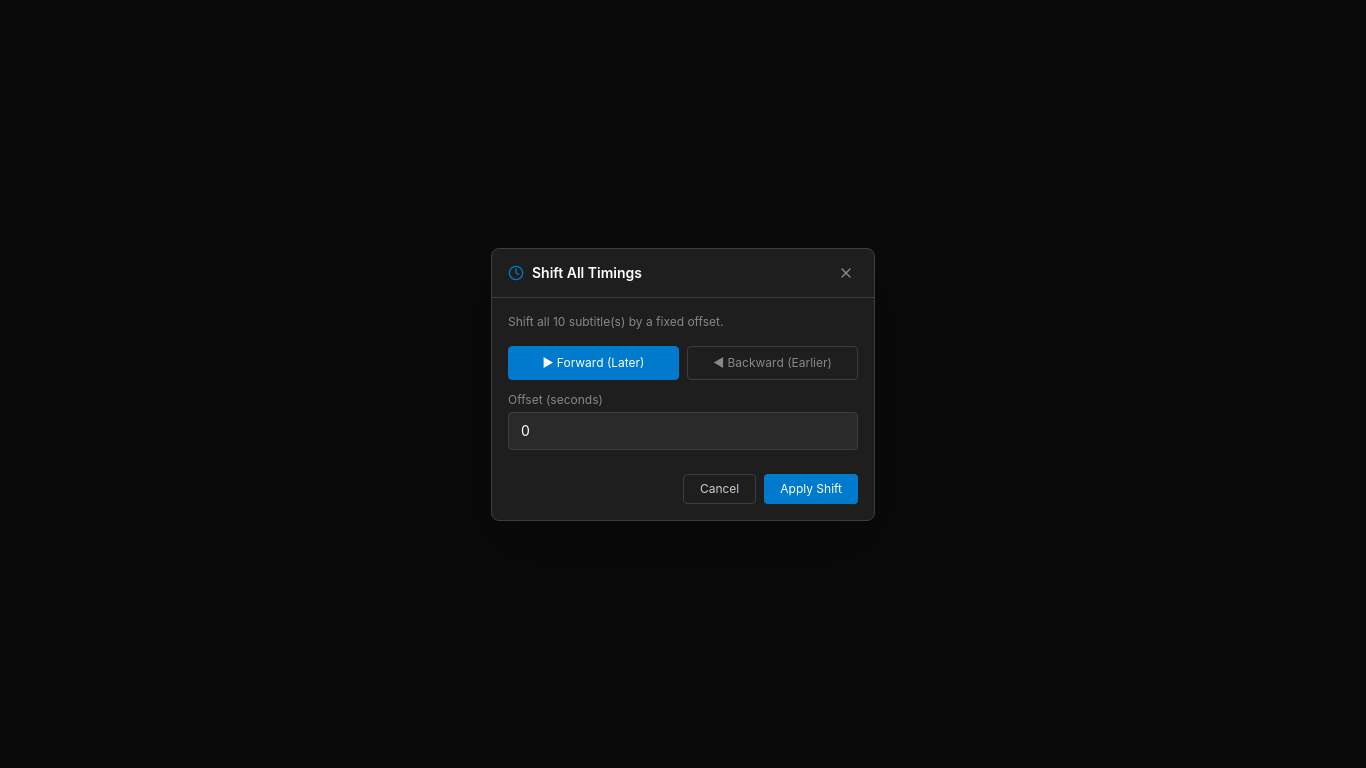
ShiftTimingsDialog › disables Apply Shift button for negative offset
Replace the text in the number field labelled "Offset (seconds)" with "-1" at (683,430), box [508,412,858,450]
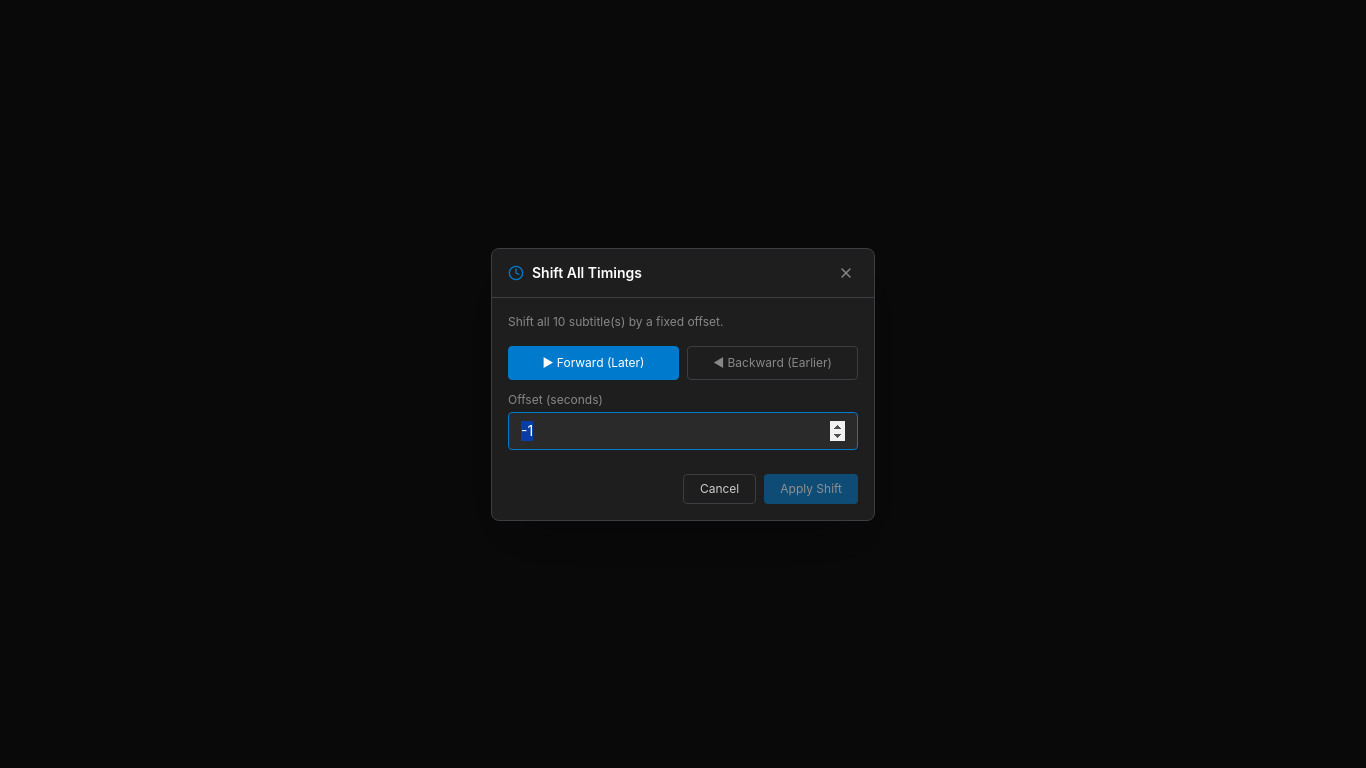
Result: the button "Apply Shift" is disabled at [764,474,858,504]
